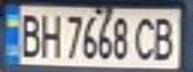6: (78, 11, 100, 60), (96, 12, 115, 61)
7: (60, 11, 84, 60)
8: (109, 14, 133, 61)
B: (151, 14, 181, 62), (15, 9, 42, 58)
C: (133, 14, 160, 62)
H: (36, 10, 63, 58)
